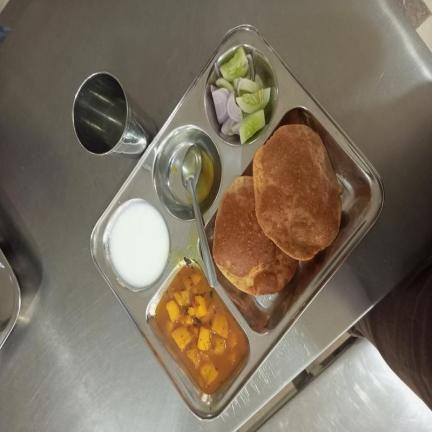Aalu Ki Sabji: (155, 266, 248, 394)
Dahi: (110, 204, 170, 288)
Plate: (89, 24, 385, 420)
Puri: (212, 124, 343, 297)
Salad: (211, 44, 271, 145)
